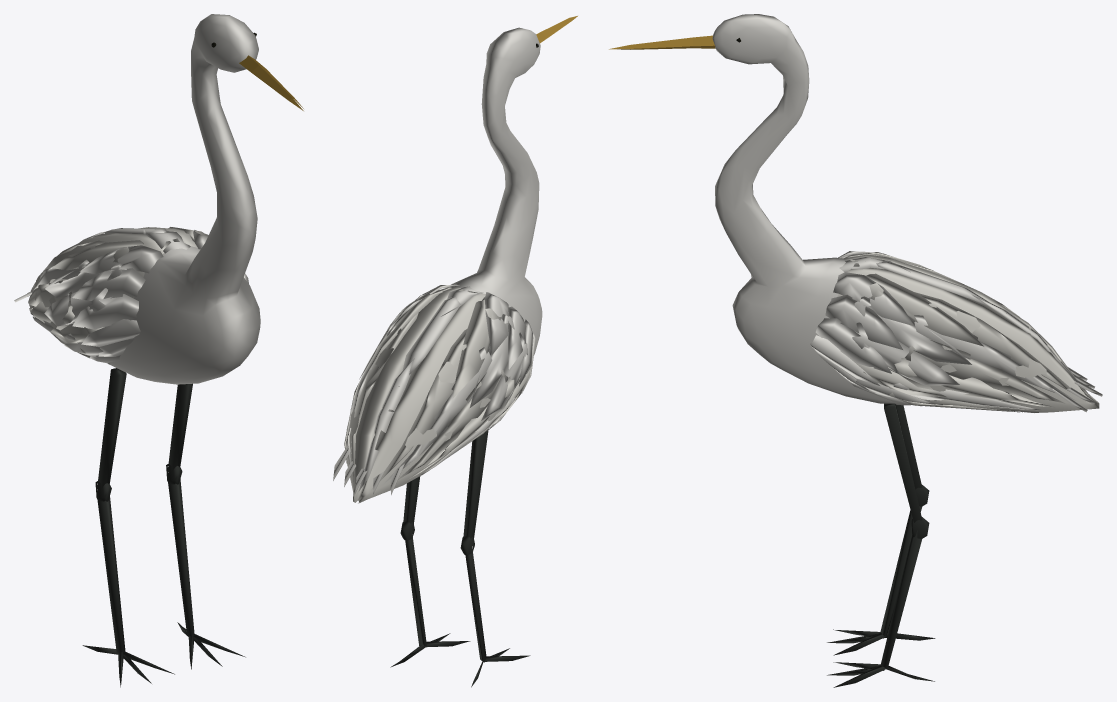
The model's file is egret.glb.
3 renders of one model, left to right at view 1: azimuth 30°, elevation 25°; view 2: azimuth 150°, elevation 25°; view 3: azimuth 270°, elevation 25°, orthographic. The views are drawn at different scales.
Visible parts, largest first — view 1: egret; view 2: egret; view 3: egret.
Boxes of the visible parts, x1,y1,x2,y2 form: egret: [14, 14, 303, 687]; egret: [333, 16, 577, 687]; egret: [609, 14, 1102, 687].
Bounding box in the file's own units: 0.3194 × 1.3 × 0.9058.
